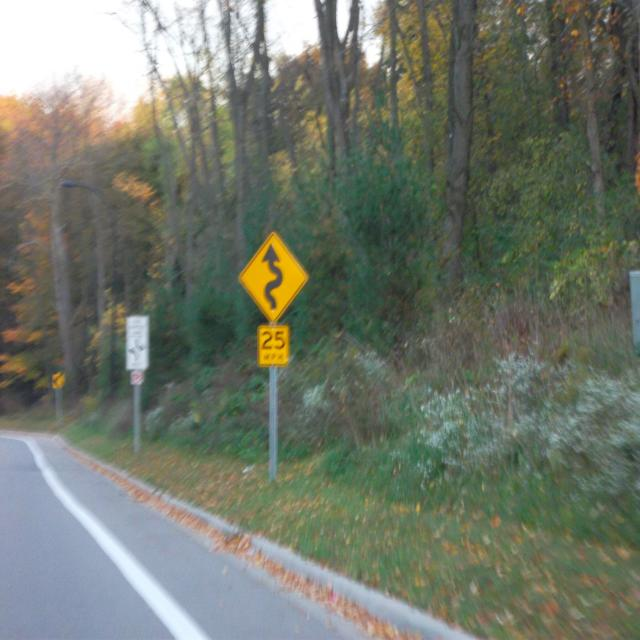regulatory: (123, 315, 151, 371), (129, 371, 144, 385)
warning: (237, 232, 311, 324)
